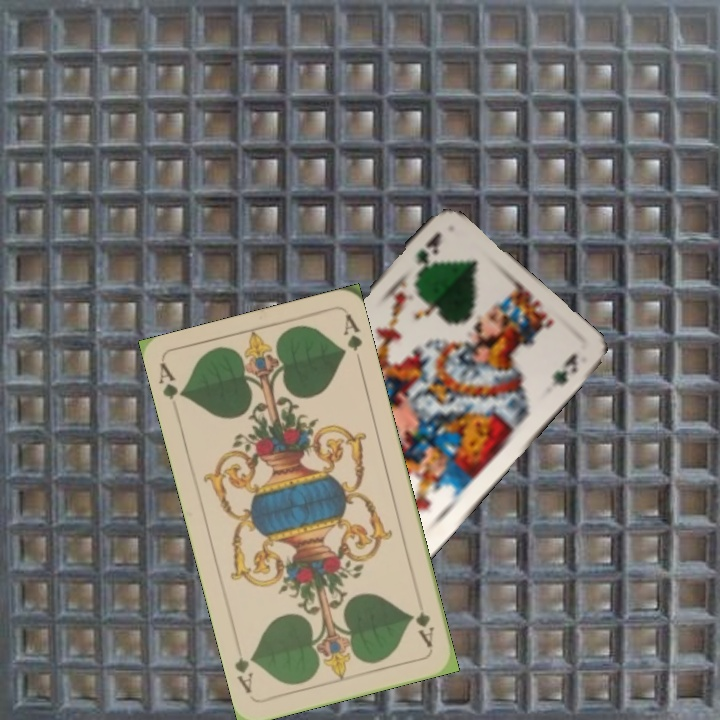GA: (409, 593, 437, 650), (155, 360, 188, 403)
GK: (411, 228, 445, 279)
